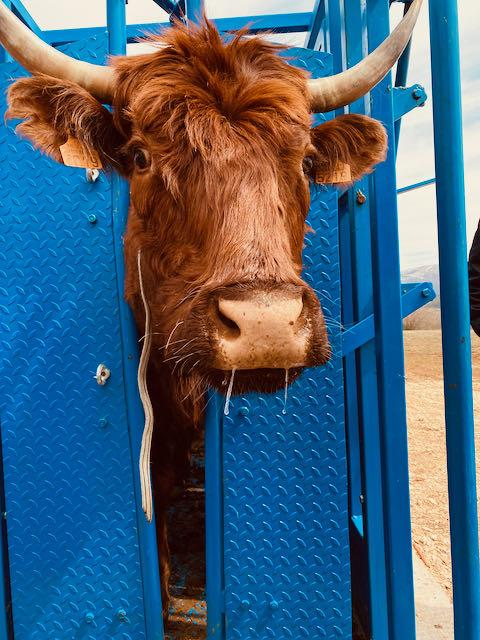muzzles: (189, 284, 338, 384)
